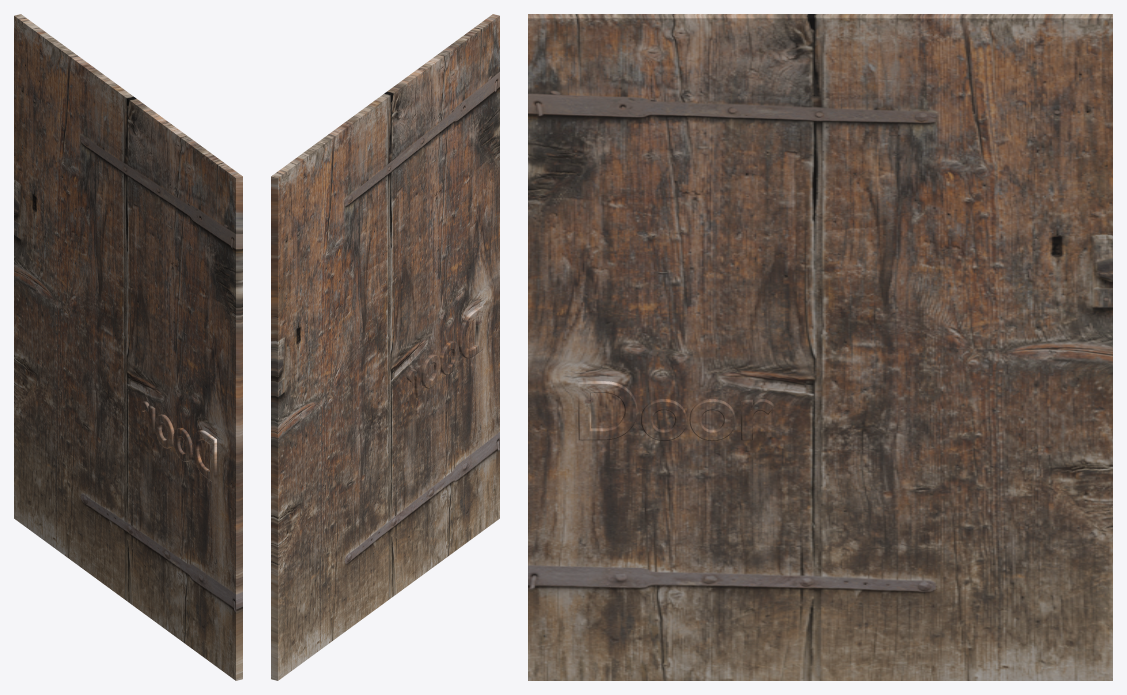
File: door.obj
3 views of the same model, side by side, from view 1: azimuth 30°, elevation 25°; view 2: azimuth 150°, elevation 25°; view 3: azimuth 270°, elevation 25° (orthographic). The views are drawn at different scales.
Parts seen in each view (by area): view 1: Cube; view 2: Cube; view 3: Cube.
Boxes of the visible parts, x1,y1,x2,y2 form: Cube: (14,14,242,680); Cube: (271,14,499,680); Cube: (528,14,1112,680).
Size of the model in its own units: 0.0638 by 2.5 by 2.
